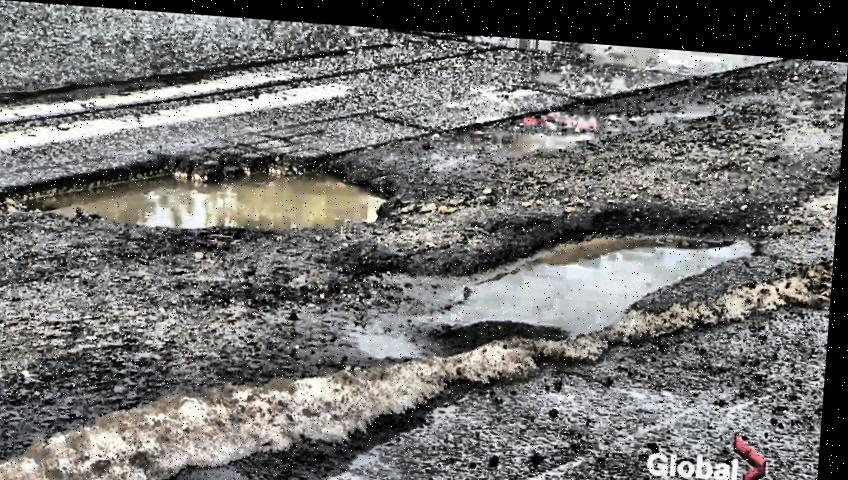pothole: (405, 189, 758, 351), (34, 121, 396, 256)
